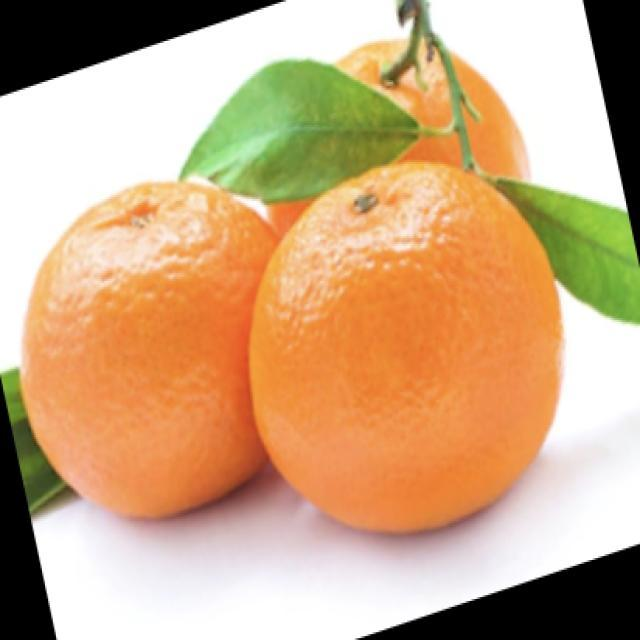matang: (182, 0, 639, 323), (250, 162, 562, 532), (21, 182, 277, 516), (0, 370, 63, 509)
